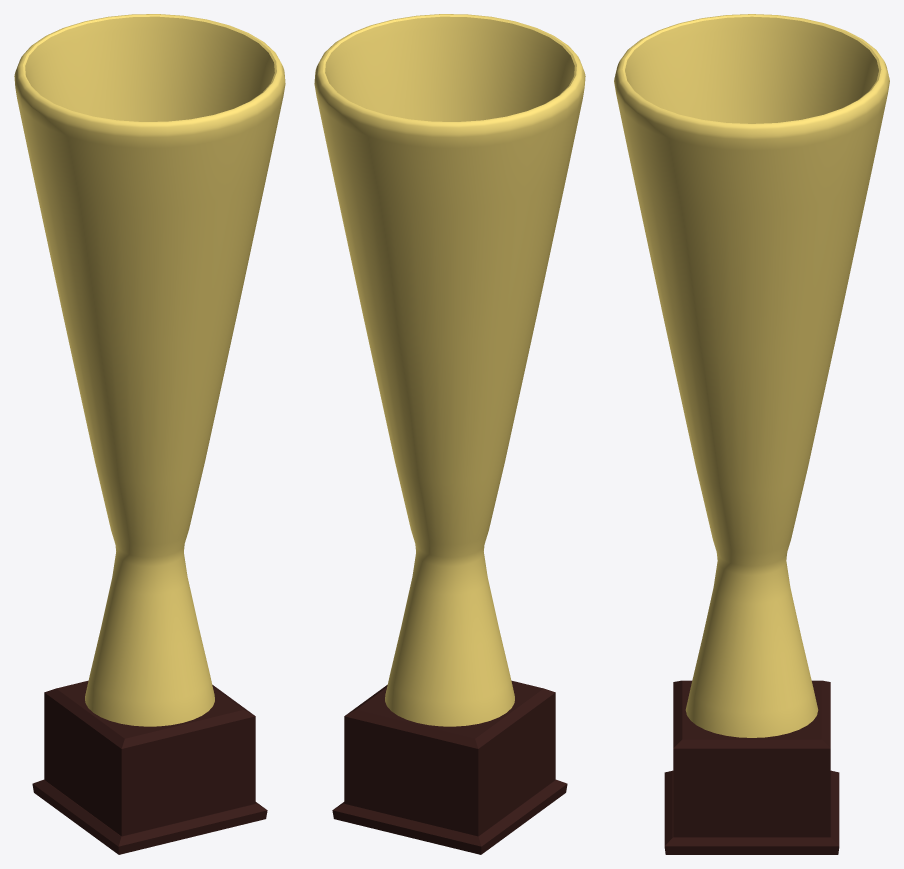
Rendered from puchar2.fbx.
3 views of the same model, side by side, from view 1: azimuth 30°, elevation 25°; view 2: azimuth 150°, elevation 25°; view 3: azimuth 270°, elevation 25° (orthographic).
Parts seen in each view (by area): view 1: Vert; view 2: Vert; view 3: Vert.
Boxes of the visible parts, <box> form: Vert: <box>14,14,285,854</box>; Vert: <box>314,14,585,854</box>; Vert: <box>614,14,889,854</box>.
Bounding box in the file's own units: 140 × 419 × 140.
